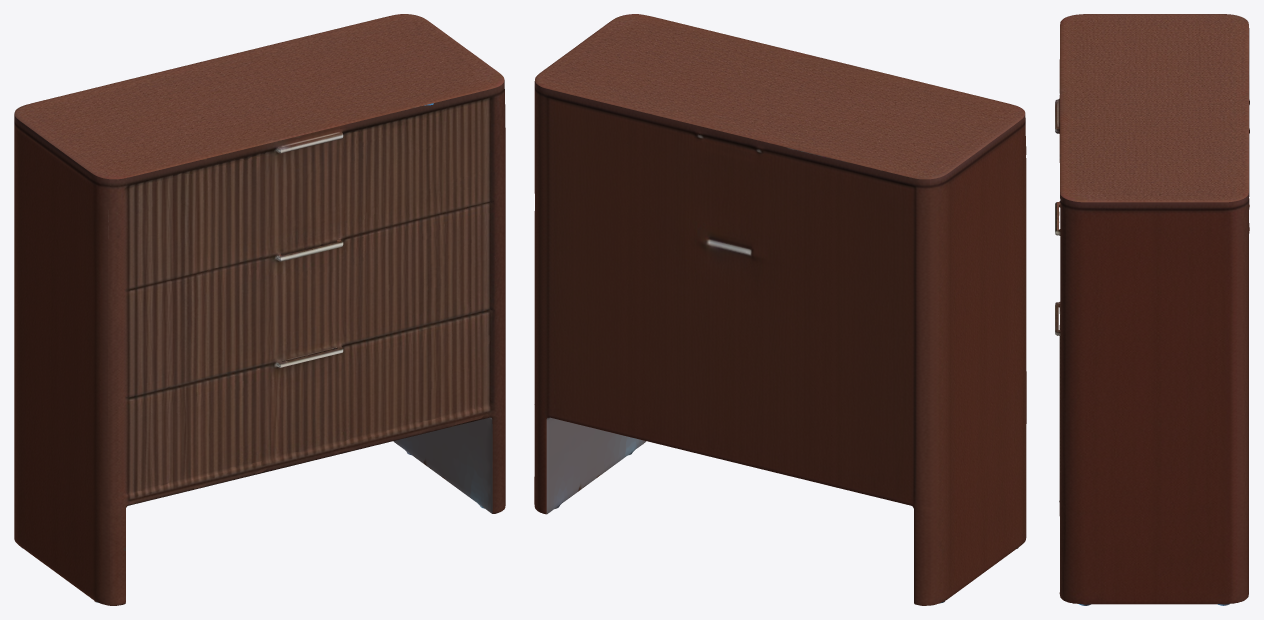
Rendered from cabinet__cabinet#4.glb.
3 views of the same model, side by side, from view 1: azimuth 30°, elevation 25°; view 2: azimuth 150°, elevation 25°; view 3: azimuth 270°, elevation 25° (orthographic). The views are drawn at different scales.
Visible parts, largest first — view 1: tmp5uocwxeo.ply; view 2: tmp5uocwxeo.ply; view 3: tmp5uocwxeo.ply.
Part boxes in pixels (x1,y1,x2,y2): tmp5uocwxeo.ply: (14, 14, 505, 605); tmp5uocwxeo.ply: (534, 14, 1026, 605); tmp5uocwxeo.ply: (1055, 14, 1249, 605).
Size of the model in its own units: 1.98 by 1.99 by 0.864.
Materials: 1 (1 with a texture image).
